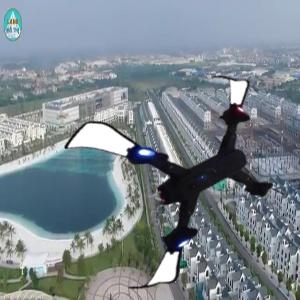drone: (80, 87, 284, 291)
